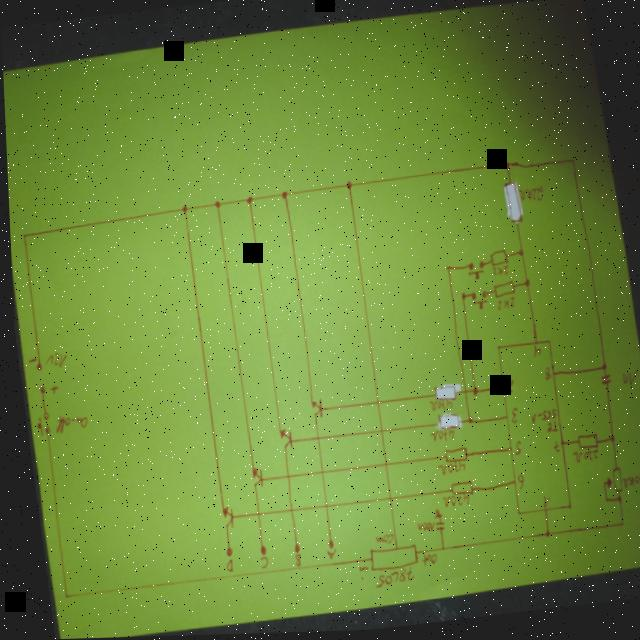capacitor: (596, 378, 610, 390), (430, 524, 442, 535)
crossover: (314, 469, 322, 479), (310, 436, 318, 445), (318, 504, 325, 513), (251, 512, 258, 521), (382, 497, 389, 505), (378, 463, 385, 471), (374, 430, 382, 437), (371, 401, 378, 409), (280, 475, 287, 483), (458, 391, 465, 399), (284, 509, 291, 516)
ground: (428, 511, 439, 522)
junction: (278, 191, 288, 204), (178, 204, 187, 216), (514, 250, 523, 262), (468, 388, 476, 401), (343, 182, 352, 193), (245, 197, 253, 208), (212, 201, 220, 212), (521, 281, 529, 292), (502, 163, 510, 174), (605, 438, 613, 448), (463, 418, 470, 429), (458, 294, 465, 305), (597, 366, 604, 376), (434, 547, 442, 555), (58, 593, 65, 602), (19, 233, 26, 241), (442, 267, 449, 275), (568, 161, 575, 169), (611, 499, 619, 506), (598, 500, 605, 508), (538, 533, 545, 541), (614, 524, 621, 531)
resistor: (501, 183, 522, 230), (596, 470, 619, 500), (429, 386, 454, 407), (433, 415, 457, 434), (440, 449, 464, 468), (490, 284, 514, 302), (446, 483, 469, 501), (572, 437, 595, 455), (486, 252, 507, 270)
switch: (467, 291, 488, 314), (464, 263, 484, 285), (31, 413, 47, 438)
terminal: (254, 545, 263, 559), (220, 547, 229, 559), (322, 539, 330, 552), (288, 545, 296, 556), (32, 362, 40, 373), (35, 385, 43, 395)
text: (368, 569, 410, 591), (50, 412, 85, 436), (526, 412, 555, 439), (517, 190, 544, 208), (41, 351, 65, 371), (438, 497, 466, 512), (432, 465, 462, 479), (425, 431, 452, 446), (618, 475, 640, 493), (568, 453, 595, 467), (425, 401, 449, 415), (493, 300, 513, 315), (369, 535, 390, 549), (619, 374, 636, 391), (412, 522, 432, 536), (352, 567, 366, 583), (416, 556, 433, 569), (489, 269, 506, 281), (254, 558, 265, 572), (507, 410, 516, 427), (288, 554, 298, 569), (220, 560, 230, 575), (512, 478, 521, 494), (509, 444, 518, 459), (503, 383, 512, 397), (321, 551, 332, 562), (538, 498, 546, 513), (530, 348, 539, 361), (541, 371, 549, 385), (549, 444, 556, 457)
transistor: (215, 507, 231, 532), (275, 430, 290, 453), (306, 400, 321, 422), (247, 468, 259, 492)
